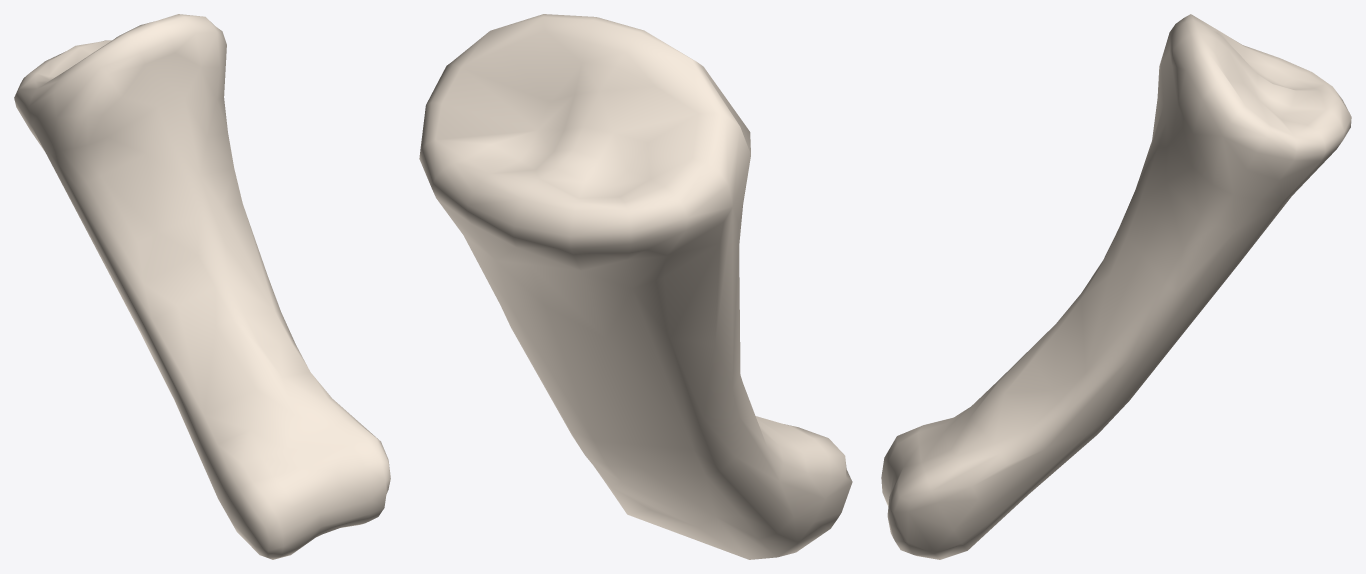
File: left_digit_3_middle.glb
The picture shows the model from 3 angles, left to right: view 1: azimuth 30°, elevation 25°; view 2: azimuth 150°, elevation 25°; view 3: azimuth 270°, elevation 25°; orthographic projection. The views are drawn at different scales.
Parts seen in each view (by area): view 1: Middle phalanx of 3rd finger.r; view 2: Middle phalanx of 3rd finger.r; view 3: Middle phalanx of 3rd finger.r.
Boxes of the visible parts, x1,y1,x2,y2 form: Middle phalanx of 3rd finger.r: [14, 14, 390, 559]; Middle phalanx of 3rd finger.r: [419, 14, 852, 559]; Middle phalanx of 3rd finger.r: [881, 14, 1351, 559].
Size of the model in its own units: 0.0132 by 0.026 by 0.0224.
